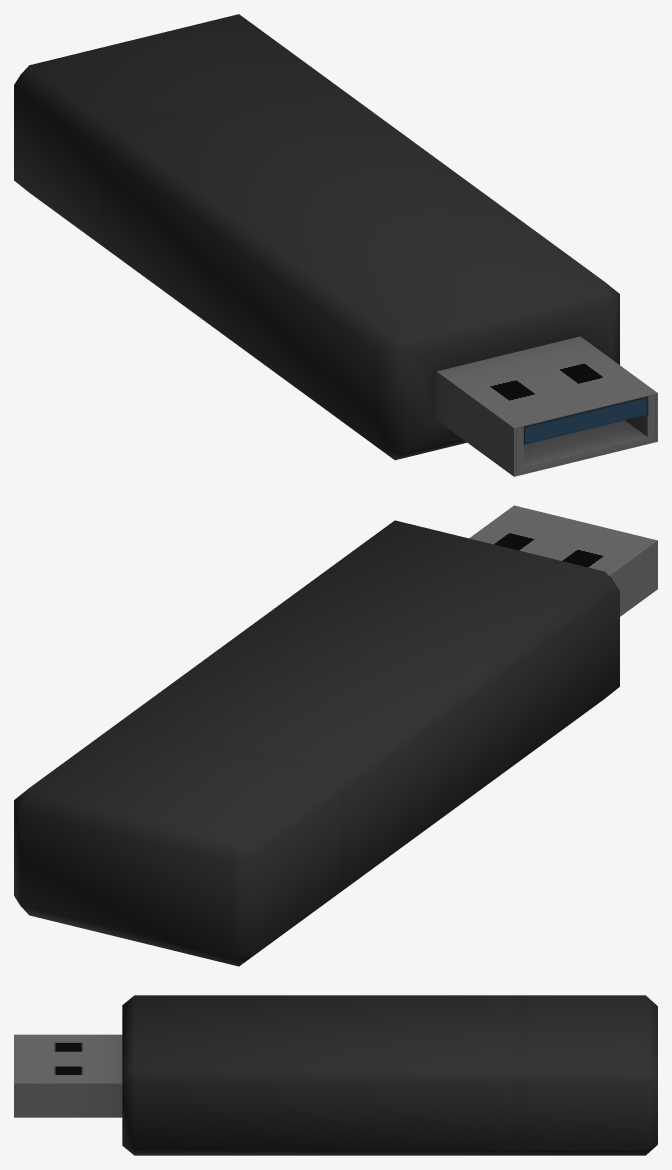
File: usb_stick_01.fbx
3 renders of one model, top to bottom at view 1: azimuth 30°, elevation 25°; view 2: azimuth 150°, elevation 25°; view 3: azimuth 270°, elevation 25°, orthographic. The views are drawn at different scales.
Visible parts, largest first — view 1: usb_stick_01; view 2: usb_stick_01; view 3: usb_stick_01.
Part boxes in pixels (box(x1,y1,x2,y2)): usb_stick_01: box(14, 14, 657, 476); usb_stick_01: box(14, 505, 657, 966); usb_stick_01: box(14, 995, 657, 1155).
Size of the model in its own units: 7.12 by 3.61 by 23.65.
